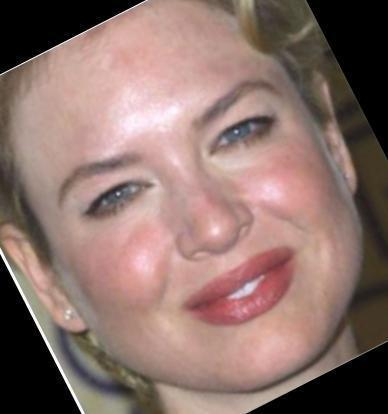Drunk: (17, 57, 367, 386)
